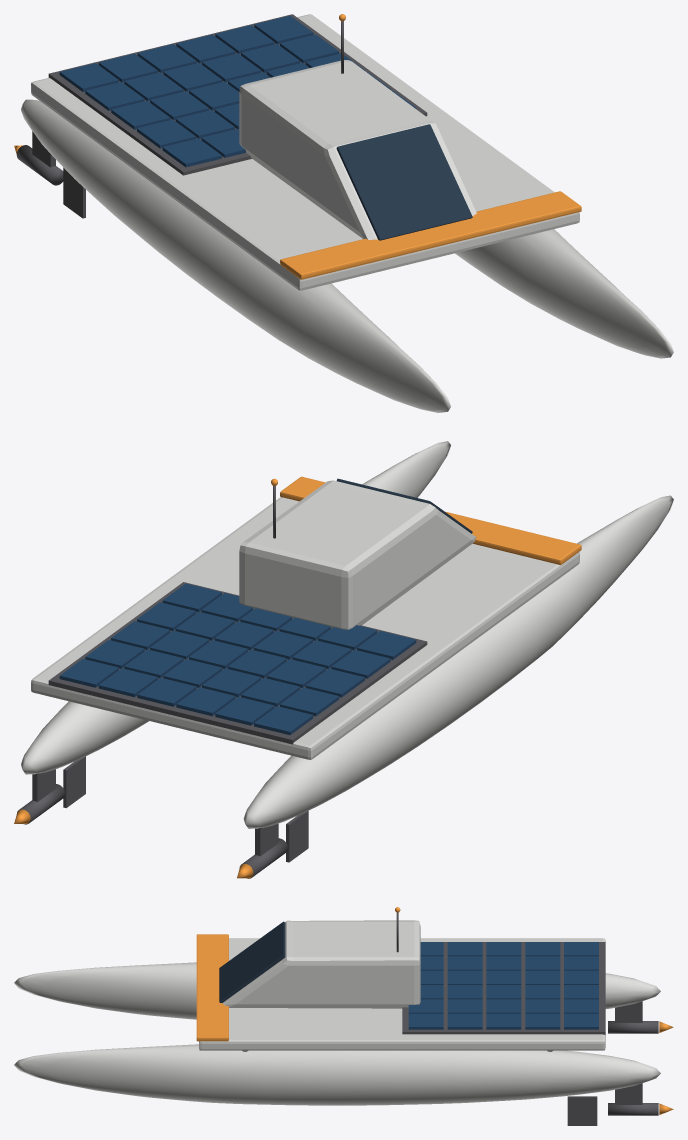
The model's file is boat.glb.
The picture shows the model from 3 angles, top to bottom: view 1: azimuth 30°, elevation 25°; view 2: azimuth 150°, elevation 25°; view 3: azimuth 270°, elevation 25°; orthographic projection. The views are drawn at different scales.
Visible parts, largest first — view 1: Pontoon.L, Deck, SolarCells, Cockpit, Pontoon.R, Canopy, Stripe, SolarPlate, Pod.L, Fin.L; view 2: SolarCells, Pontoon.L, Deck, Cockpit, Pontoon.R, SolarPlate, Stripe, Fin.L, Fin.R, Pod.L, Pod.R; view 3: Pontoon.R, SolarCells, Cockpit, Deck, Pontoon.L, SolarPlate, Stripe, Canopy, Fin.R, Pod.L, Pod.R, Strut.L (+1 smaller).
Boxes of the visible parts, x1,y1,x2,y2 form: Pontoon.L: [21, 99, 450, 412]; Deck: [31, 14, 579, 290]; SolarCells: [59, 15, 416, 167]; Cockpit: [239, 60, 476, 239]; Pontoon.R: [455, 229, 673, 358]; Canopy: [336, 124, 472, 240]; Stripe: [280, 191, 581, 279]; SolarPlate: [48, 14, 427, 175]; Pod.L: [16, 145, 63, 185]; Fin.L: [63, 167, 85, 218]; SolarCells: [59, 583, 416, 734]; Pontoon.L: [243, 495, 673, 828]; Deck: [31, 497, 579, 759]; Cockpit: [239, 480, 476, 629]; Pontoon.R: [21, 441, 450, 774]; SolarPlate: [48, 582, 427, 744]; Stripe: [280, 476, 581, 564]; Fin.L: [286, 811, 308, 862]; Fin.R: [63, 756, 85, 808]; Pod.L: [239, 838, 287, 878]; Pod.R: [16, 784, 65, 824]; Pontoon.R: [14, 1044, 660, 1105]; SolarCells: [408, 942, 598, 1029]; Cockpit: [222, 920, 420, 1008]; Deck: [199, 938, 605, 1050]; Pontoon.L: [14, 962, 660, 1019]; SolarPlate: [402, 942, 605, 1034]; Stripe: [196, 934, 228, 1041]; Canopy: [219, 921, 285, 1002]; Fin.R: [567, 1096, 597, 1125]; Pod.L: [608, 1021, 658, 1033]; Pod.R: [608, 1103, 658, 1115]; Strut.L: [615, 1001, 642, 1022].
Size of the model in its own units: 2.7 by 2.26 by 7.14.
